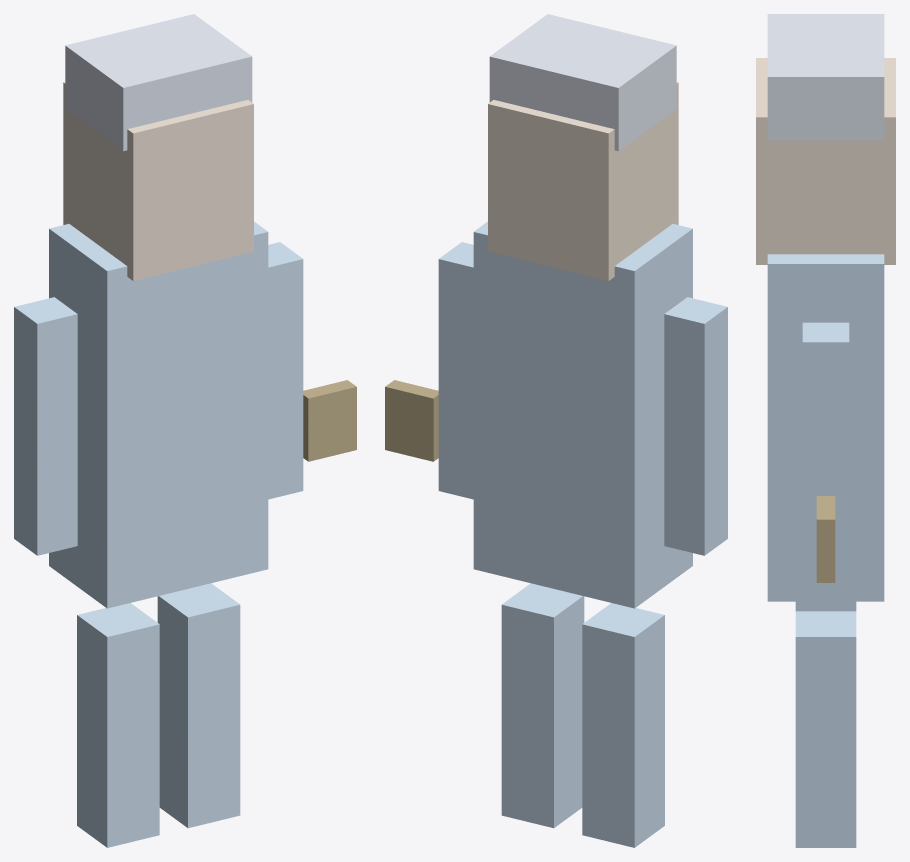
File: lyra.glb
3 views of the same model, side by side, from view 1: azimuth 30°, elevation 25°; view 2: azimuth 150°, elevation 25°; view 3: azimuth 270°, elevation 25° (orthographic).
Size of the model in its own units: 0.81 by 1.83 by 0.3.
